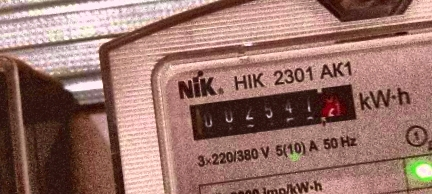0: (199, 107, 215, 129), (220, 102, 234, 124)
1: (300, 90, 314, 115)
2: (239, 98, 256, 122)
4: (280, 93, 293, 115)
5: (259, 96, 275, 121)
6: (324, 104, 336, 117)
screen: (174, 72, 368, 149)
